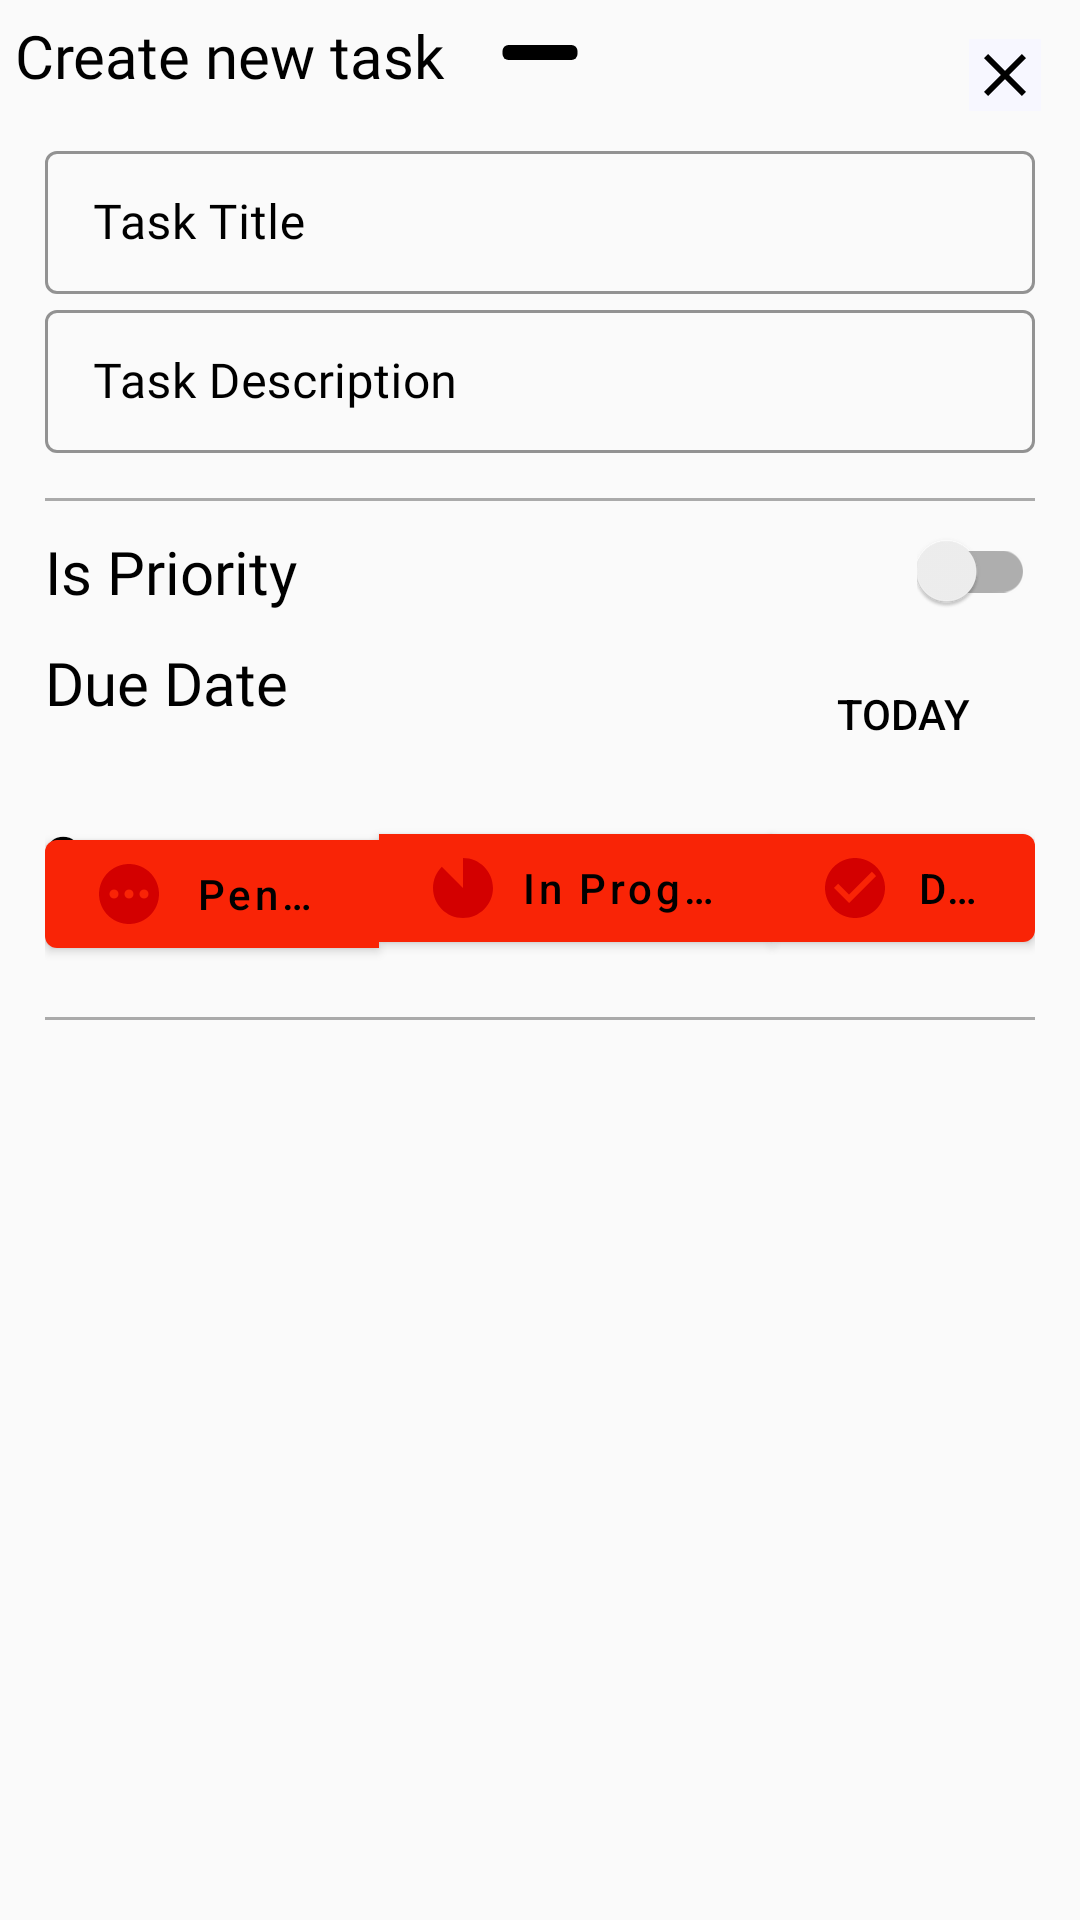

Locate icon controls on the screen. Image size 1080 × 1920, boxes as {"x1": x1, "y1": y1, "x2": x2, "y2": y2}.
close: {"x1": 984, "y1": 54, "x2": 1026, "y2": 96}
